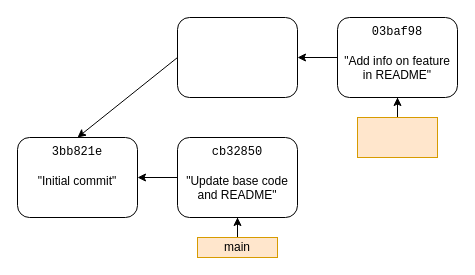
The diagram is 475 pixels wide and 275 high, and some of its shapes have lost their labels. Each missing label, with the centre of its shape:
2cbc9bf "Implement feature": [237,57]
implement-feature: [397,137]
